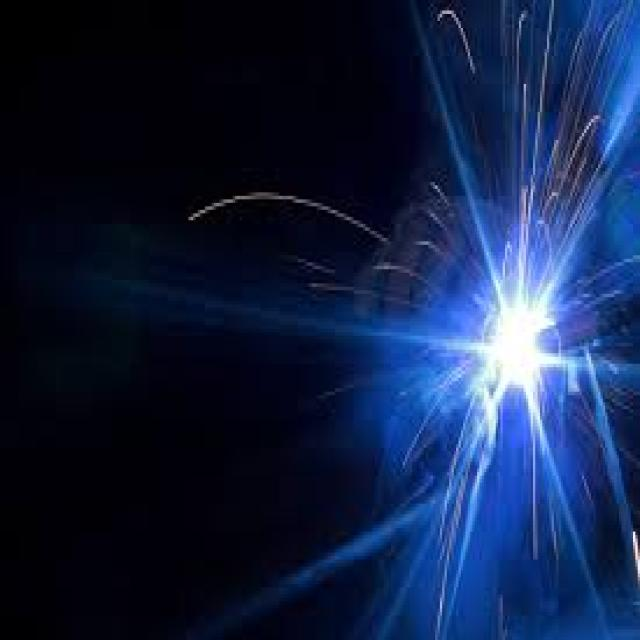welding: (490, 302, 546, 394)
